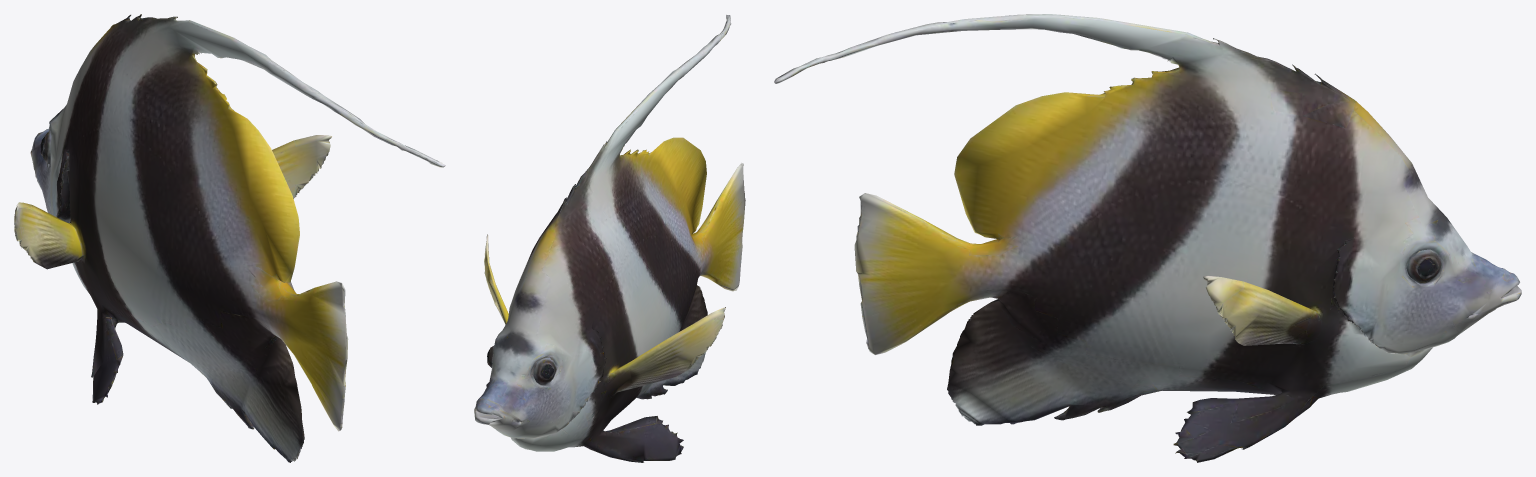
The model's file is wimpelvis.glb.
The picture shows the model from 3 angles, left to right: view 1: azimuth 30°, elevation 25°; view 2: azimuth 150°, elevation 25°; view 3: azimuth 270°, elevation 25°; orthographic projection. The views are drawn at different scales.
Visible parts, largest first — view 1: tripo_node_1303d755-dd59-4c3a-b48f-55c4dbe781ff; view 2: tripo_node_1303d755-dd59-4c3a-b48f-55c4dbe781ff; view 3: tripo_node_1303d755-dd59-4c3a-b48f-55c4dbe781ff.
Boxes of the visible parts, x1,y1,x2,y2 form: tripo_node_1303d755-dd59-4c3a-b48f-55c4dbe781ff: [14, 14, 445, 462]; tripo_node_1303d755-dd59-4c3a-b48f-55c4dbe781ff: [474, 15, 745, 462]; tripo_node_1303d755-dd59-4c3a-b48f-55c4dbe781ff: [774, 14, 1521, 462].
Bounding box in the file's own units: 0.1627 × 0.2 × 0.3286.
Materials: 1 (1 with a texture image).
